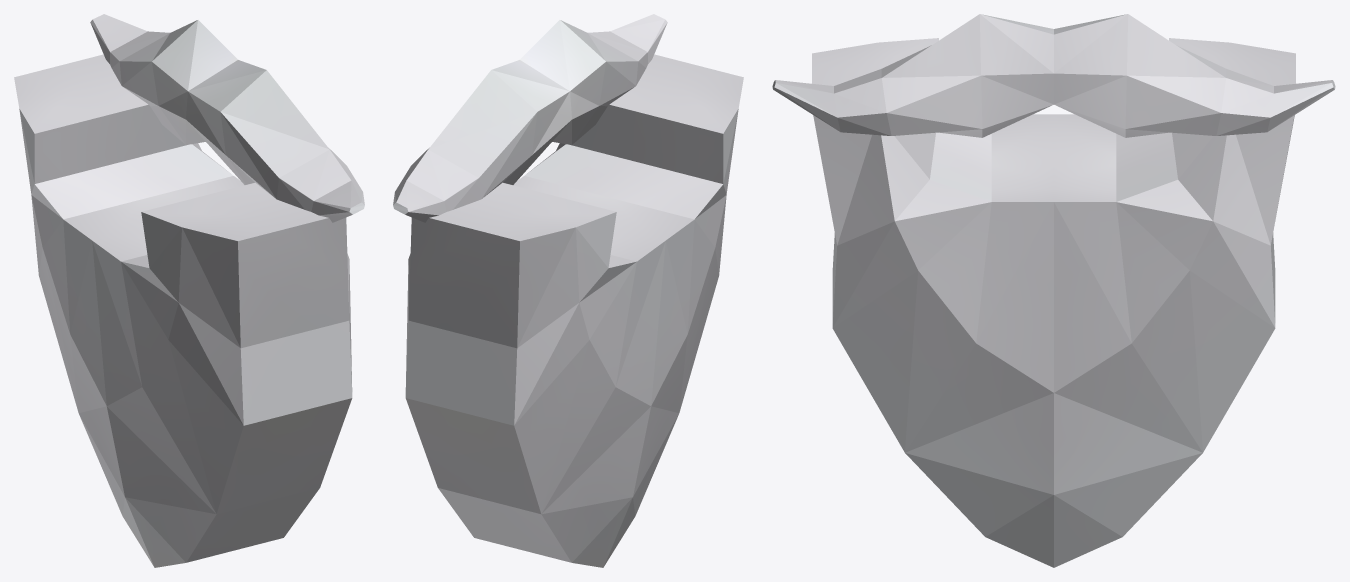
File: SANTA BEARD.fbx
3 views of the same model, side by side, from view 1: azimuth 30°, elevation 25°; view 2: azimuth 150°, elevation 25°; view 3: azimuth 270°, elevation 25° (orthographic). The views are drawn at different scales.
Parts seen in each view (by area): view 1: SANTA_BEARD; view 2: SANTA_BEARD; view 3: SANTA_BEARD.
Boxes of the visible parts, <box> form: SANTA_BEARD: <box>14,14,364,567</box>; SANTA_BEARD: <box>393,14,743,567</box>; SANTA_BEARD: <box>772,14,1335,567</box>.
Bounding box in the file's own units: 7.96 × 20.22 × 18.94.
